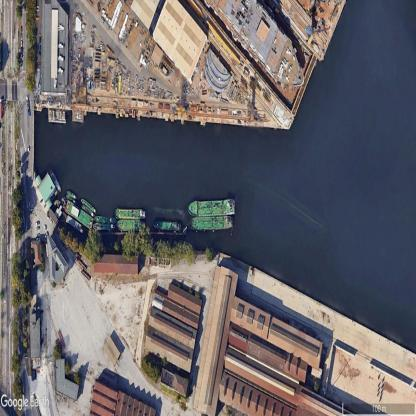ship: (188, 199, 235, 216), (191, 216, 233, 229), (115, 208, 146, 220), (154, 220, 182, 232), (117, 219, 145, 231), (49, 169, 61, 192), (82, 199, 96, 214), (82, 205, 94, 218), (93, 223, 115, 230), (94, 216, 115, 223), (67, 191, 76, 199), (66, 195, 75, 203)
